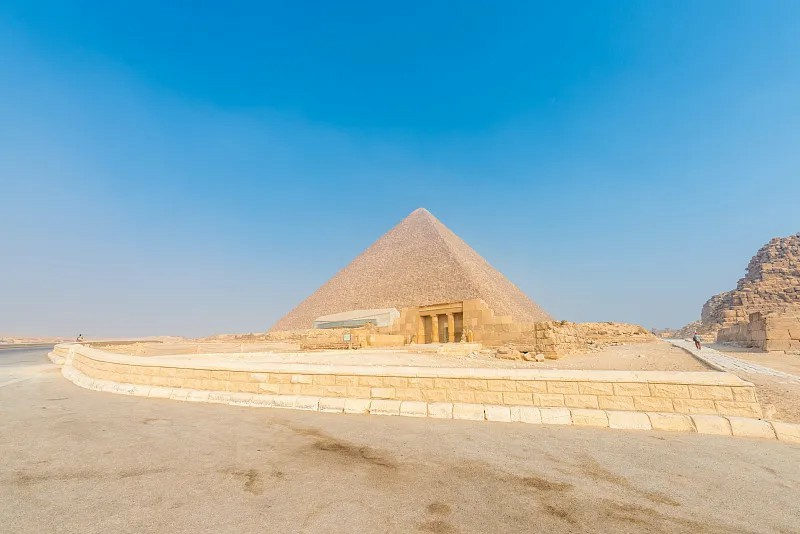Pyramid: (266, 206, 551, 347)
